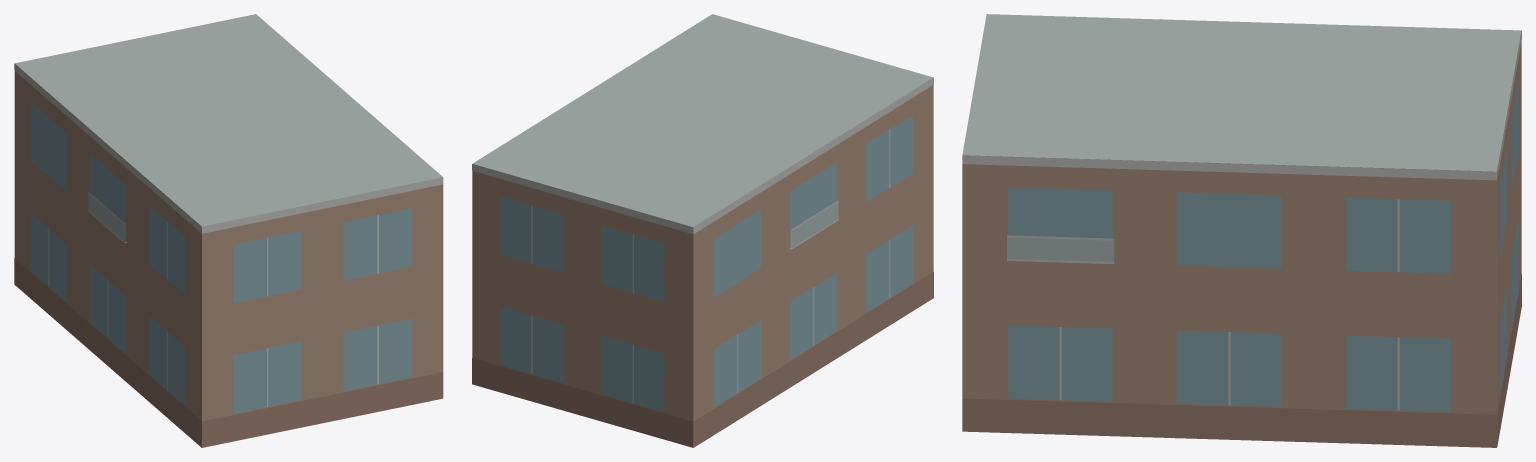
Rendered from survey-upis-32638045.glb.
3 views of the same model, side by side, from view 1: azimuth 30°, elevation 25°; view 2: azimuth 150°, elevation 25°; view 3: azimuth 270°, elevation 25° (orthographic). The views are drawn at different scales.
Visible parts, largest first — view 1: survey-upis-32638045.tmp; view 2: survey-upis-32638045.tmp; view 3: survey-upis-32638045.tmp.
Boxes of the visible parts, x1,y1,x2,y2 form: survey-upis-32638045.tmp: [14, 14, 443, 447]; survey-upis-32638045.tmp: [472, 14, 933, 447]; survey-upis-32638045.tmp: [962, 14, 1521, 447].
Bounding box in the file's own units: 9.3 × 7.6 × 13.96.
